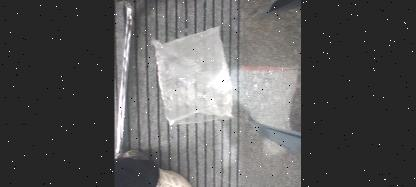Others: (152, 26, 233, 125)
